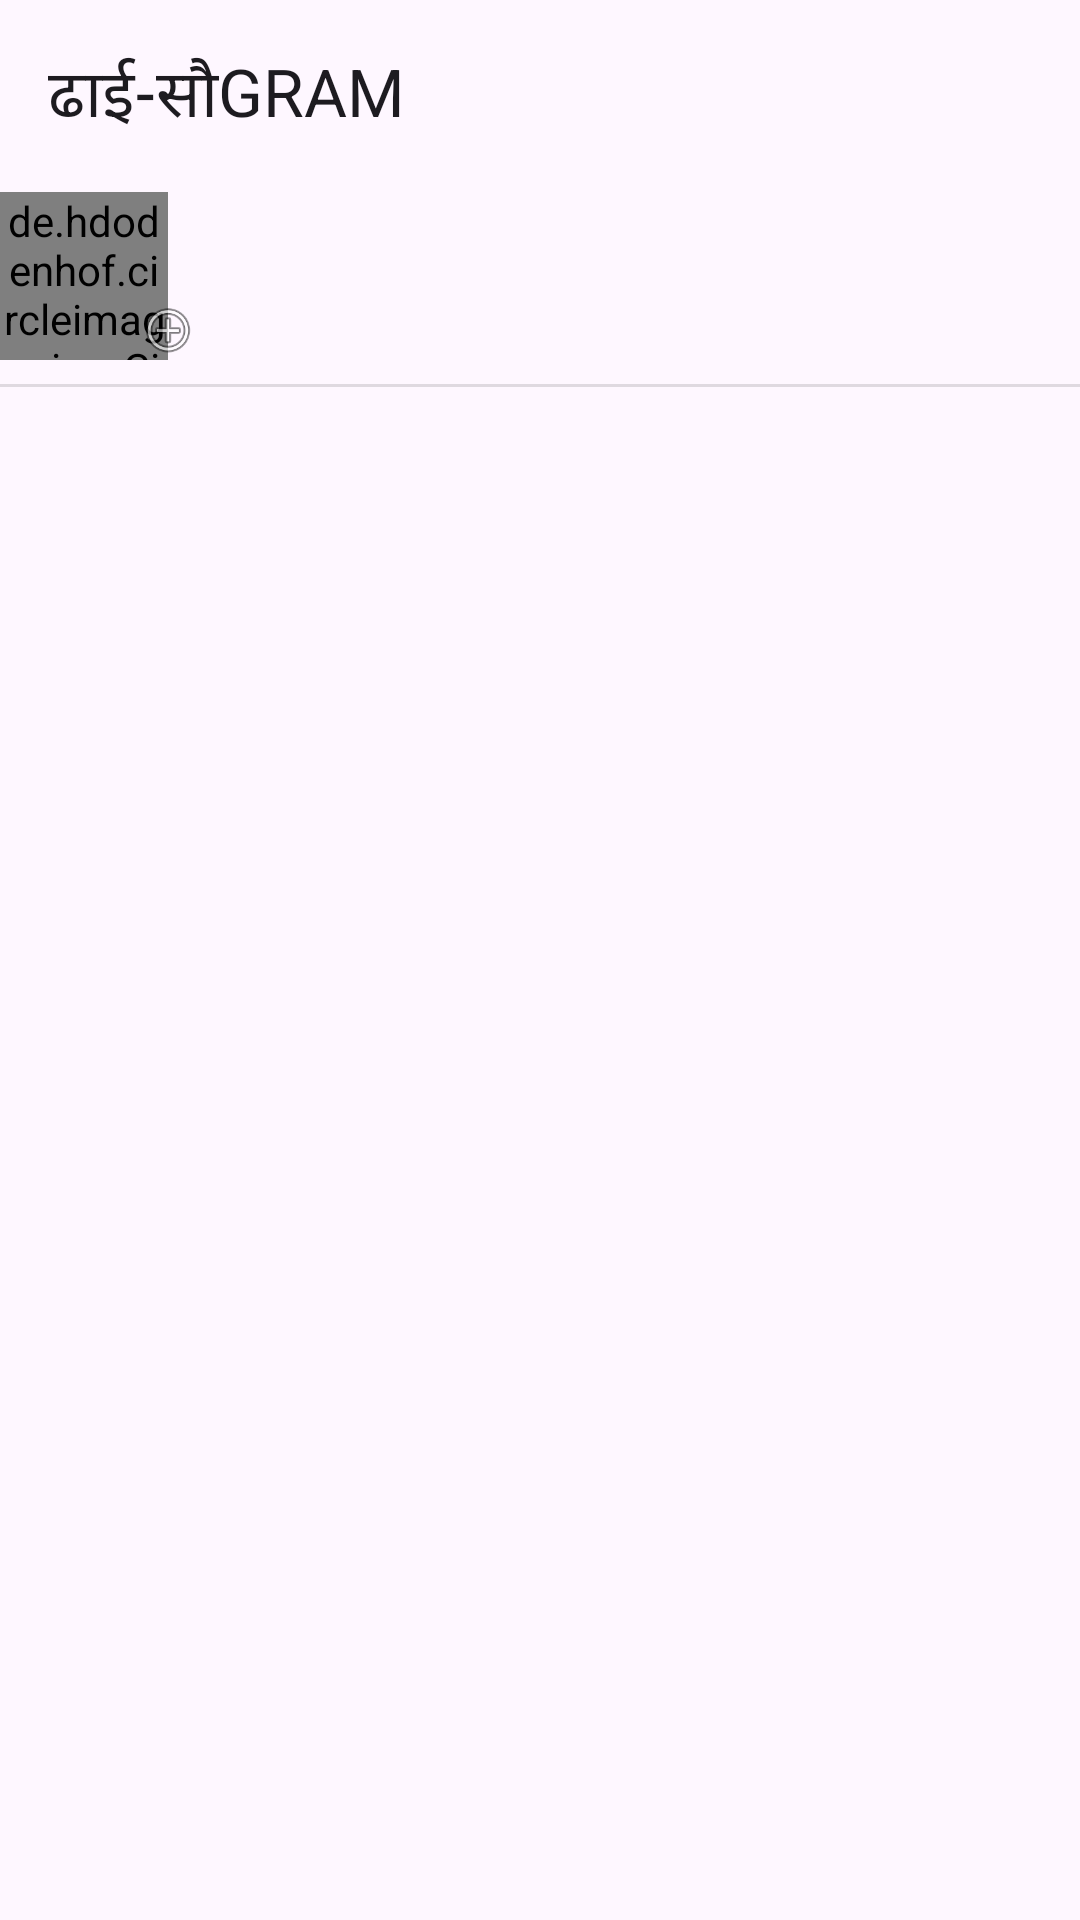

Locate icon controls on the screen. Image size 1080px x 1920px, boxes as bbox=[x1, y1, x2, y2].
add: bbox=[138, 300, 190, 360]
